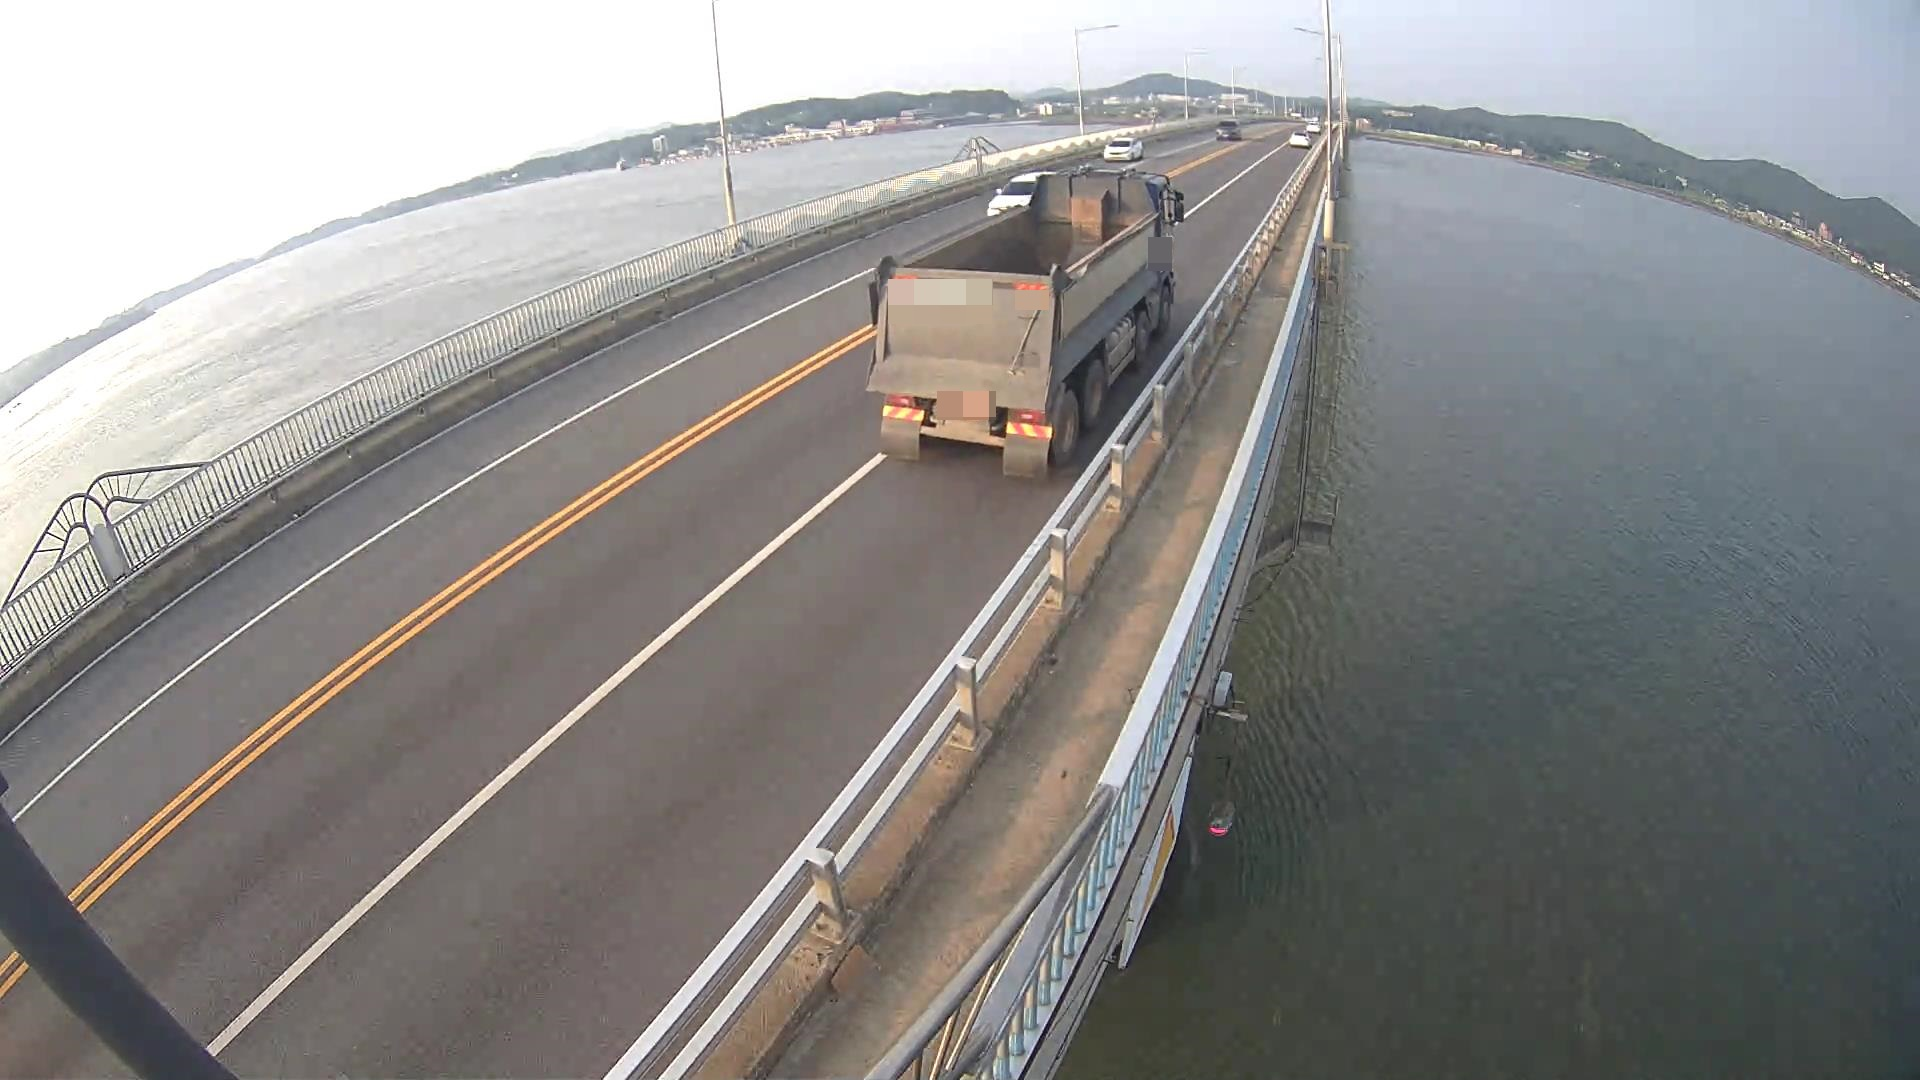정상차량: (864, 162, 1184, 465)
